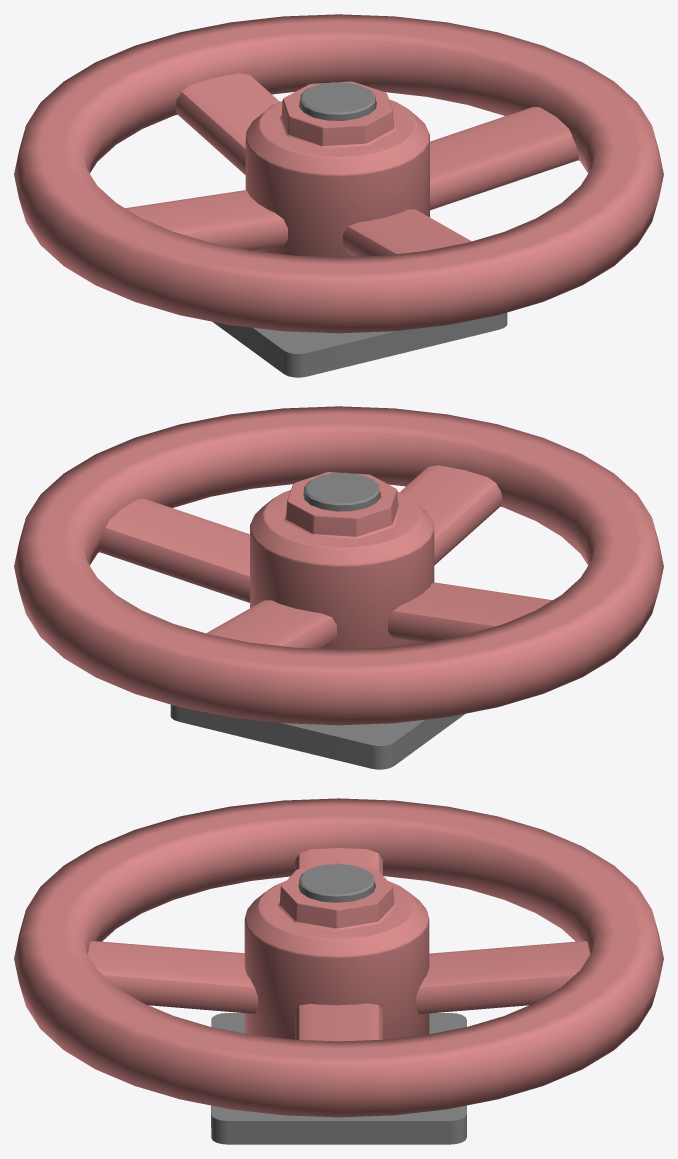
Rendered from Wheel.fbx.
3 views of the same model, one above another, from view 1: azimuth 30°, elevation 25°; view 2: azimuth 150°, elevation 25°; view 3: azimuth 270°, elevation 25° (orthographic).
Parts seen in each view (by area): view 1: Wheel, WheelPlate; view 2: Wheel, WheelPlate; view 3: Wheel, WheelPlate.
Part boxes in pixels (box(x1,y1,x2,y2)): Wheel: box(14, 14, 663, 333); WheelPlate: box(212, 312, 507, 377); Wheel: box(14, 406, 663, 725); WheelPlate: box(170, 704, 465, 769); Wheel: box(14, 798, 663, 1117); WheelPlate: box(211, 1013, 466, 1144).
Bounding box in the file's own units: 32.44 × 11.58 × 32.44.
